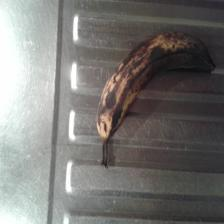Banana Rotten: (107, 10, 195, 148)
